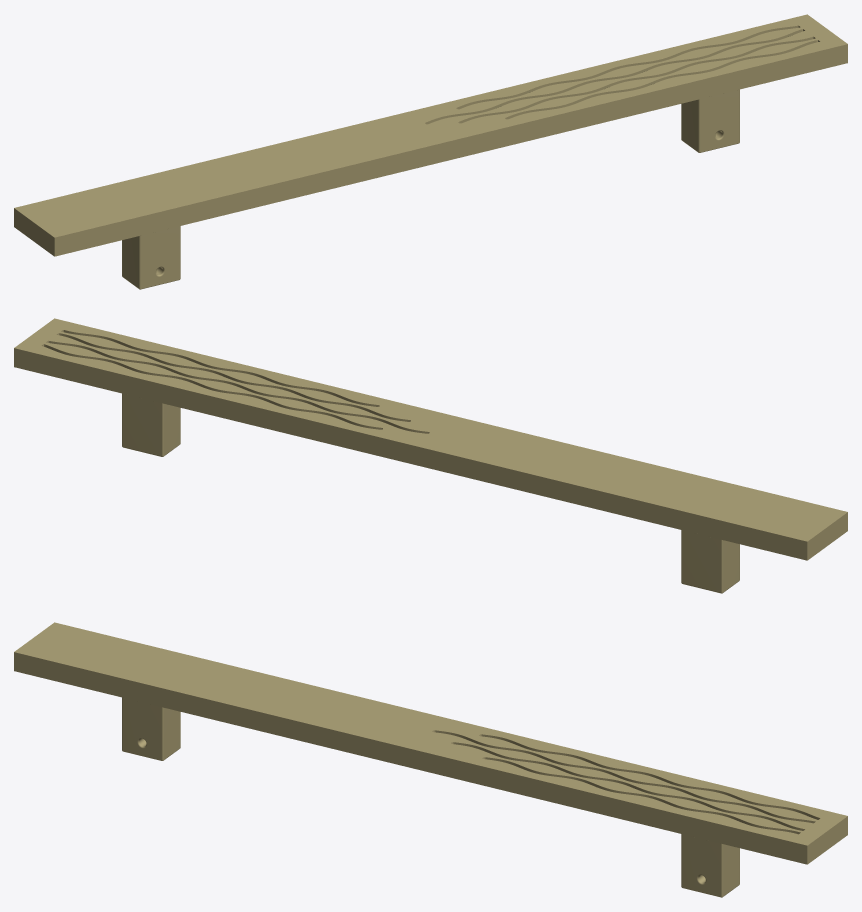
The model's file is door-handles-1712.glb.
The picture shows the model from 3 angles, top to bottom: view 1: azimuth 30°, elevation 25°; view 2: azimuth 150°, elevation 25°; view 3: azimuth 330°, elevation 25°; orthographic projection.
Visible parts, largest first — view 1: Bar, Post -1, Post 1; view 2: Bar, Post -1, Post 1; view 3: Bar, Post 1, Post -1.
Boxes of the visible parts, bbox=[...] form: Bar: bbox=[14, 14, 847, 256]; Post -1: bbox=[122, 226, 180, 289]; Post 1: bbox=[681, 89, 739, 152]; Bar: bbox=[14, 318, 847, 560]; Post -1: bbox=[681, 530, 739, 593]; Post 1: bbox=[122, 393, 180, 456]; Bar: bbox=[14, 622, 847, 864]; Post 1: bbox=[681, 834, 739, 897]; Post -1: bbox=[122, 697, 180, 760].
Size of the model in its own units: 0.305 by 0.031 by 0.027.
